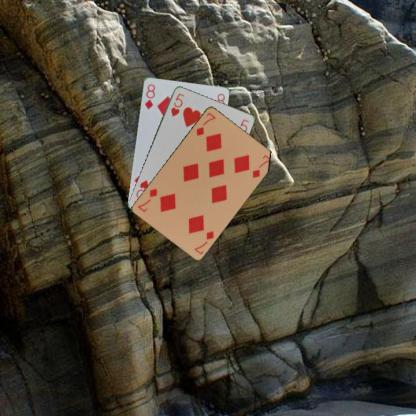5h: (168, 90, 186, 117)
7d: (192, 228, 215, 255), (194, 110, 216, 137)
8d: (142, 82, 156, 110)
